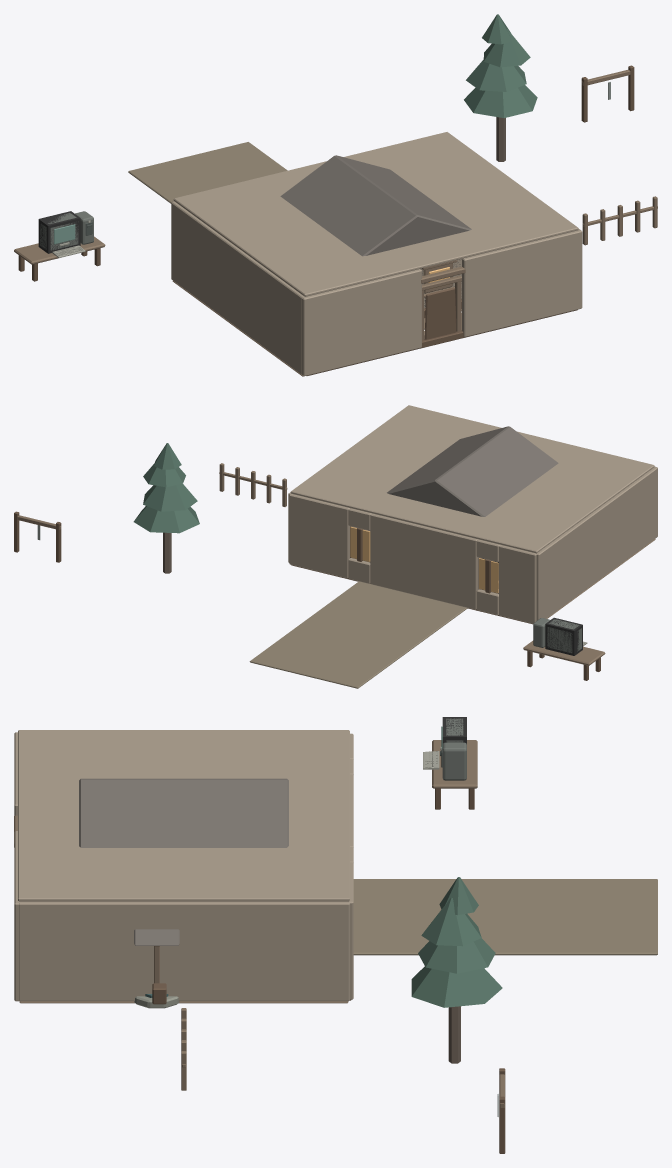
The model's file is urman_modular_kit.glb.
3 renders of one model, top to bottom at view 1: azimuth 30°, elevation 25°; view 2: azimuth 150°, elevation 25°; view 3: azimuth 270°, elevation 25°, orthographic. The views are drawn at different scales.
Parts seen in each view (by area): view 1: HouseInterior_CeilingField_LOD0, HouseInterior_LeftWall_LOD0, HouseA_Roof_LOD0, HouseInterior_FrontWallRight_LOD0, HouseInterior_FrontWallLeft_LOD0, RoadDirt_Straight_LOD0, PineA_Crown_LOD0, HouseInterior_EntryDoor_LOD0, OldPc-col, TableA_Top_LOD0, OldPc_Crt_LOD0, HouseInterior_BaseTrimFront_LOD0; view 2: HouseInterior_CeilingField_LOD0, RoadDirt_Straight_LOD0, HouseInterior_LeftWall_LOD0, HouseA_Roof_LOD0, HouseInterior_BackWall_Mid_LOD0, HouseInterior_BackWall_Right_LOD0, PineA_Crown_LOD0, HouseInterior_BackWall_Left_LOD0, OldPc-col, OldPc_Crt_LOD0, TableA_Top_LOD0, HouseInterior_BackWall_UnderSillWest_LOD0 (+5 smaller); view 3: HouseInterior_CeilingField_LOD0, HouseInterior_RightWall_LOD0, RoadDirt_Straight_LOD0, HouseA_Roof_LOD0, PineA_Crown_LOD0, TableA_Top_LOD0, OldPc_Tower_LOD0, HouseInterior_FloorBoard_05_LOD0, HouseInterior_FrontWallRight_LOD0, WellA_Roof_LOD0, PineA_Trunk_LOD0.
Boxes of the visible parts, <box> form: HouseInterior_CeilingField_LOD0: <box>173,132,578,296</box>; HouseInterior_LeftWall_LOD0: <box>171,201,304,374</box>; HouseA_Roof_LOD0: <box>280,155,471,256</box>; HouseInterior_FrontWallRight_LOD0: <box>462,230,582,336</box>; HouseInterior_FrontWallLeft_LOD0: <box>302,269,421,376</box>; RoadDirt_Straight_LOD0: <box>128,142,287,203</box>; PineA_Crown_LOD0: <box>464,14,537,117</box>; HouseInterior_EntryDoor_LOD0: <box>424,287,456,339</box>; OldPc-col: <box>38,211,80,253</box>; TableA_Top_LOD0: <box>14,236,105,264</box>; OldPc_Crt_LOD0: <box>40,213,78,250</box>; HouseInterior_BaseTrimFront_LOD0: <box>307,309,577,375</box>; HouseInterior_CeilingField_LOD0: <box>290,405,654,553</box>; RoadDirt_Straight_LOD0: <box>249,581,467,688</box>; HouseInterior_LeftWall_LOD0: <box>536,467,656,620</box>; HouseA_Roof_LOD0: <box>387,426,558,516</box>; HouseInterior_BackWall_Mid_LOD0: <box>370,513,478,609</box>; HouseInterior_BackWall_Right_LOD0: <box>289,494,349,578</box>; PineA_Crown_LOD0: <box>133,443,199,533</box>; HouseInterior_BackWall_Left_LOD0: <box>499,545,536,623</box>; OldPc-col: <box>545,617,582,655</box>; OldPc_Crt_LOD0: <box>547,619,581,653</box>; TableA_Top_LOD0: <box>523,640,605,665</box>; HouseInterior_BackWall_UnderSillWest_LOD0: <box>476,589,498,615</box>; HouseInterior_CeilingField_LOD0: <box>18,730,349,901</box>; HouseInterior_RightWall_LOD0: <box>19,901,349,1001</box>; RoadDirt_Straight_LOD0: <box>353,879,657,955</box>; HouseA_Roof_LOD0: <box>79,778,288,847</box>; PineA_Crown_LOD0: <box>411,877,502,1007</box>; TableA_Top_LOD0: <box>432,740,477,788</box>; OldPc_Tower_LOD0: <box>442,742,466,780</box>; HouseInterior_FloorBoard_05_LOD0: <box>19,1001,348,1003</box>; HouseInterior_FrontWallRight_LOD0: <box>14,831,19,1001</box>; WellA_Roof_LOD0: <box>134,929,179,945</box>; PineA_Trunk_LOD0: <box>448,1006,460,1063</box>.
Size of what is drawn, in the model's own units: 27.1 by 5.99 by 19.02.
